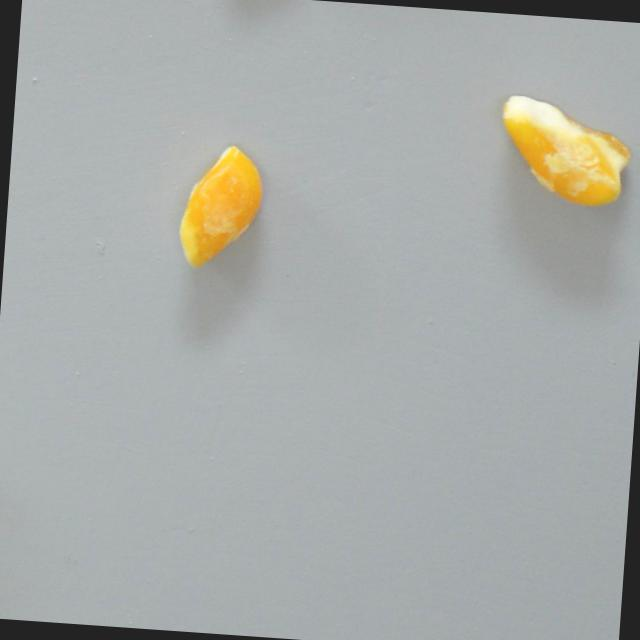pelicula: (492, 91, 637, 210), (173, 140, 269, 273)
